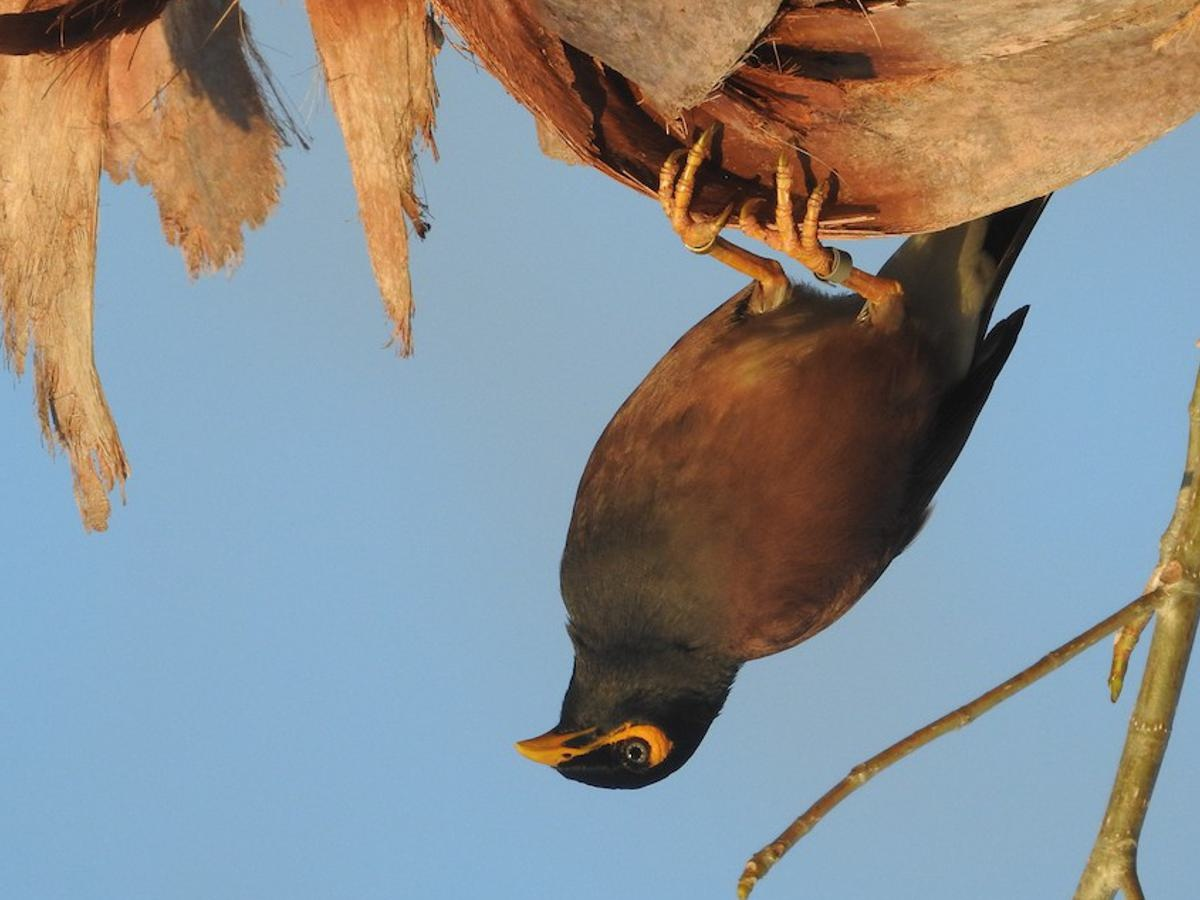myna: (475, 202, 1043, 818)
